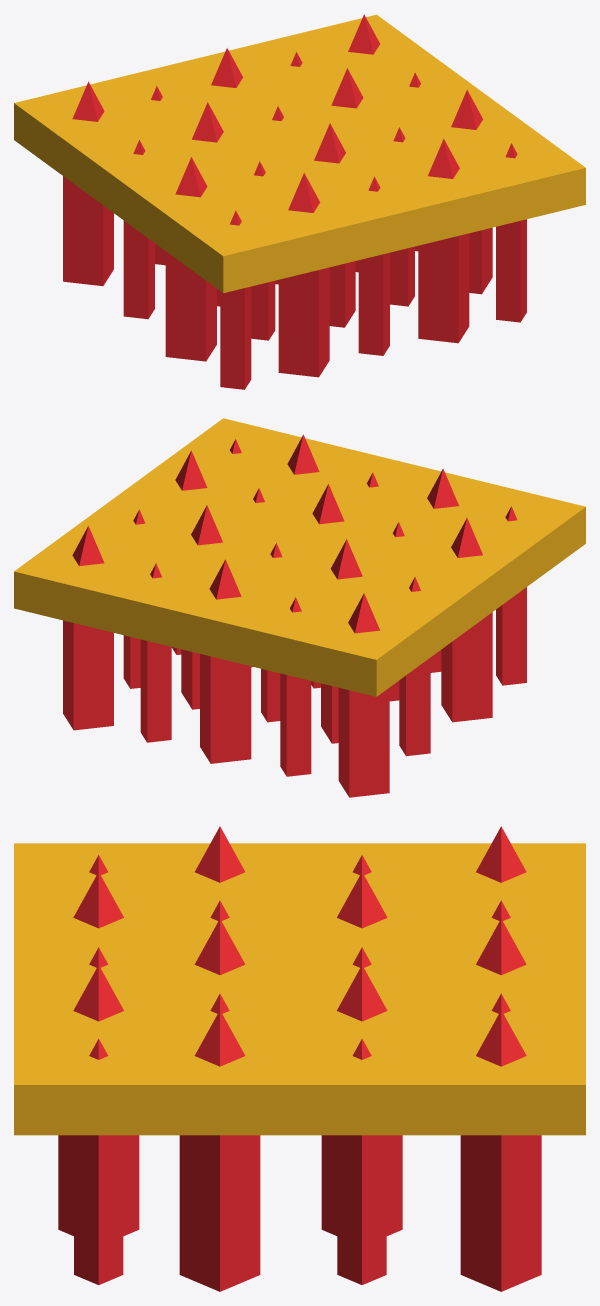
Rendered from Trap.fbx.
3 views of the same model, one above another, from view 1: azimuth 30°, elevation 25°; view 2: azimuth 150°, elevation 25°; view 3: azimuth 270°, elevation 25° (orthographic). The views are drawn at different scales.
Parts seen in each view (by area): view 1: Trap_2, Trap_1; view 2: Trap_2, Trap_1; view 3: Trap_2, Trap_1.
Part boxes in pixels (x1,y1,x2,y2): Trap_2: (14,14,585,293); Trap_1: (63,14,526,389); Trap_2: (14,418,585,696); Trap_1: (63,434,526,797); Trap_2: (14,843,585,1135); Trap_1: (58,826,541,1291).
Bounding box in the file's own units: 3.05 × 1.56 × 3.05.
